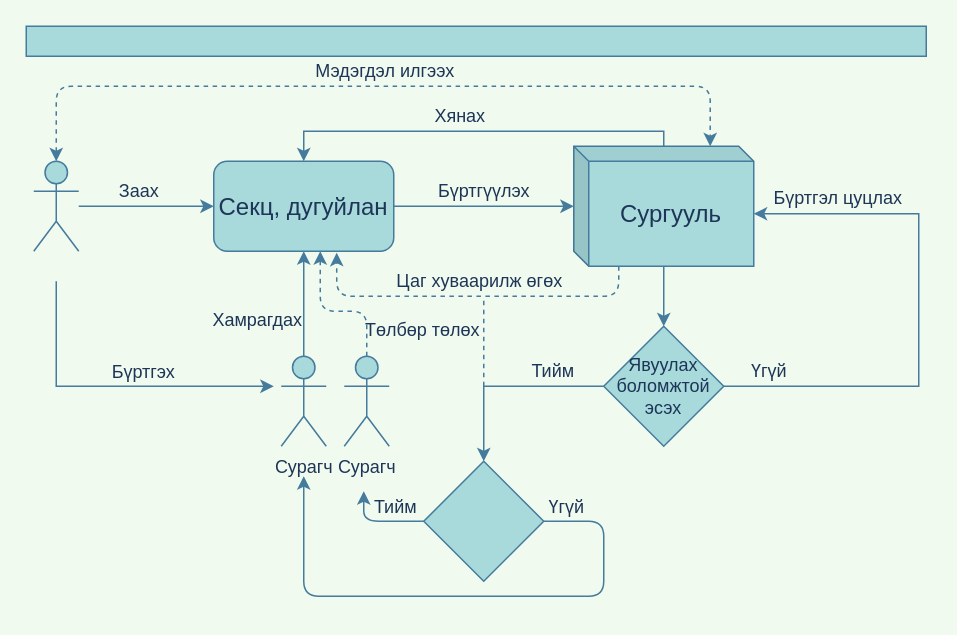
The diagram is 957 pixels wide and 635 high, and some of its shapes have lost their labels. Each missing label, with the centre of its shape:
Багш: pixel 55 205
Нэмэлт төлбөртэй эсэх: pixel 483 520
Сургуульд секц, дугуйлангийн үндсэн үйл ажиллагаа: pixel 475 40
